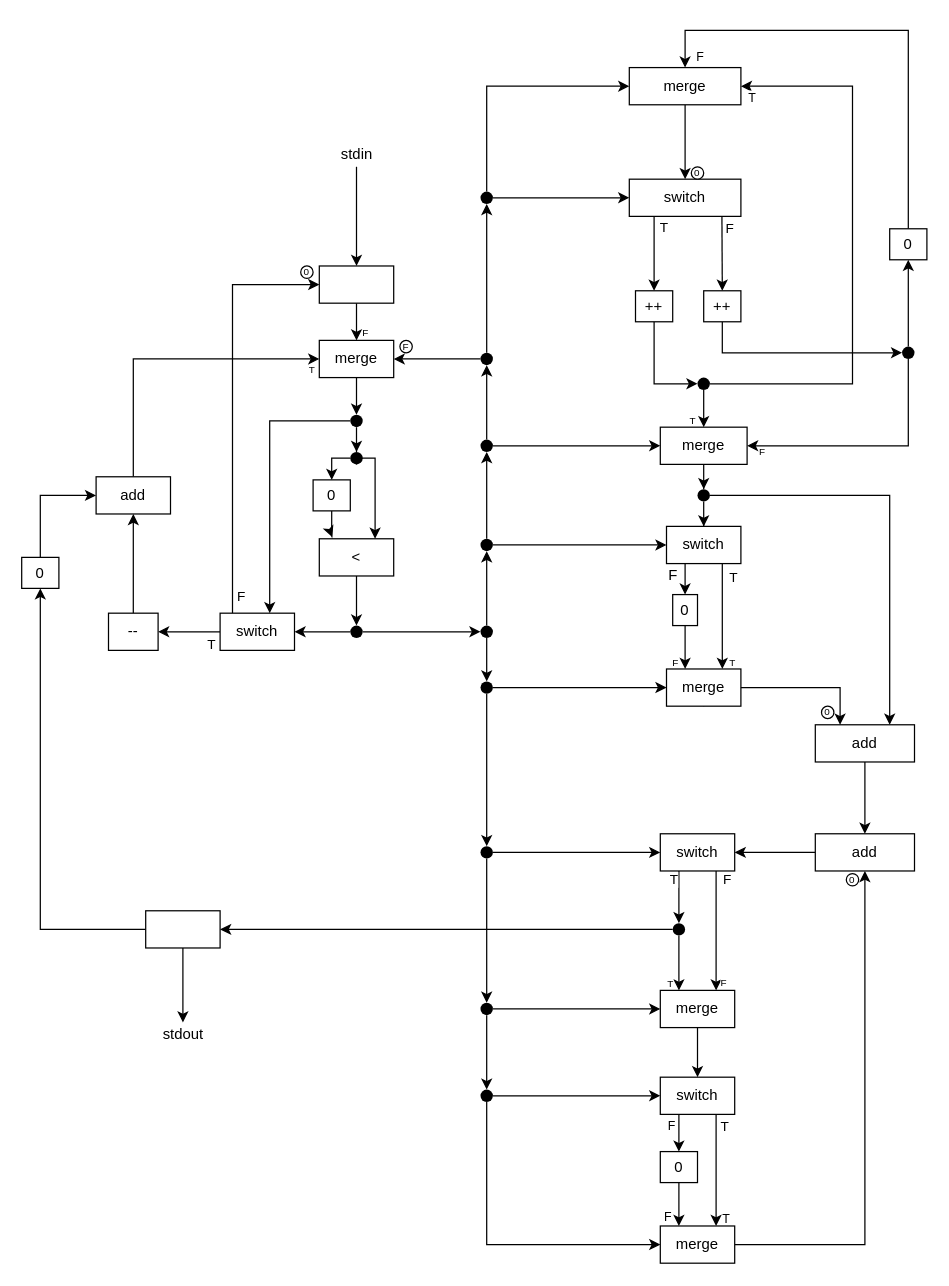
The diagram is 949 pixels wide and 1286 high, and some of its shapes have lost their labels. Here are the shapes that lost their labels. From the top down, the centre of each, then its label:
At (356,284): "IN".
At (182,929): "OUT".
